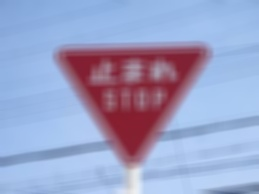Regulatory_sign_triangle: (51, 43, 208, 159)
